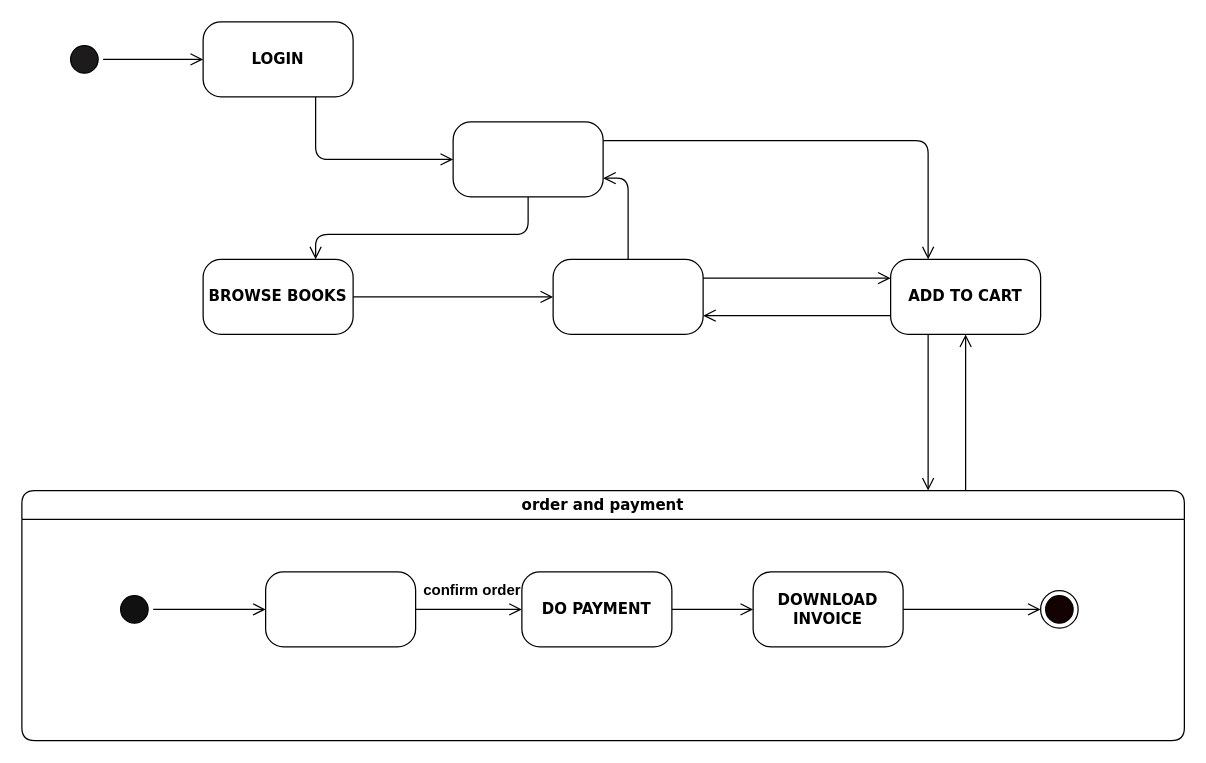
The diagram is 1206 pixels wide and 763 high, and some of its shapes have lost their labels. Each missing label, with the centre of its shape:
"PLACE ORDER" belongs at (x=340, y=609).
"SELECT BOOKS" belongs at (x=627, y=296).
"VIEW CATEGORY" belongs at (x=527, y=159).
